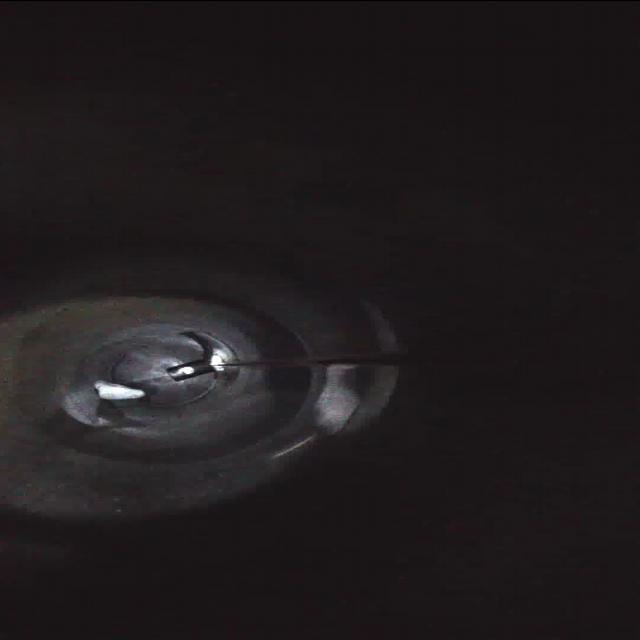impurity: (84, 376, 150, 404)
